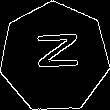N_W: (29, 37, 80, 78)
